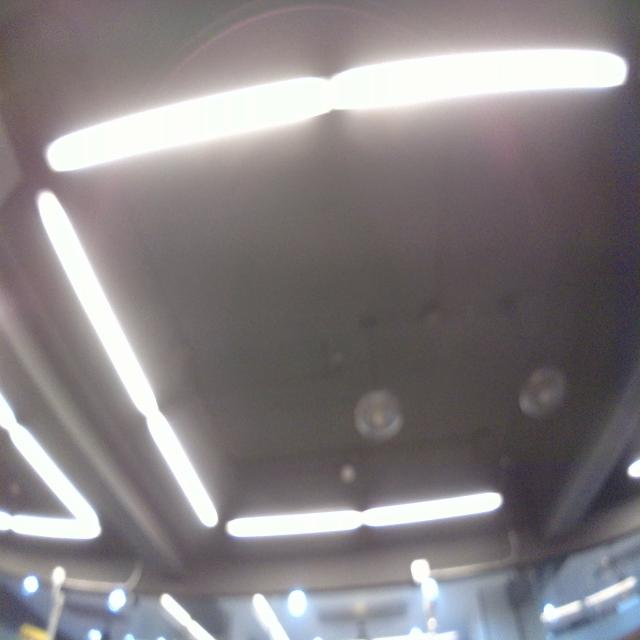lamp2_on: (35, 36, 633, 181), (29, 187, 225, 535), (221, 483, 509, 545)
